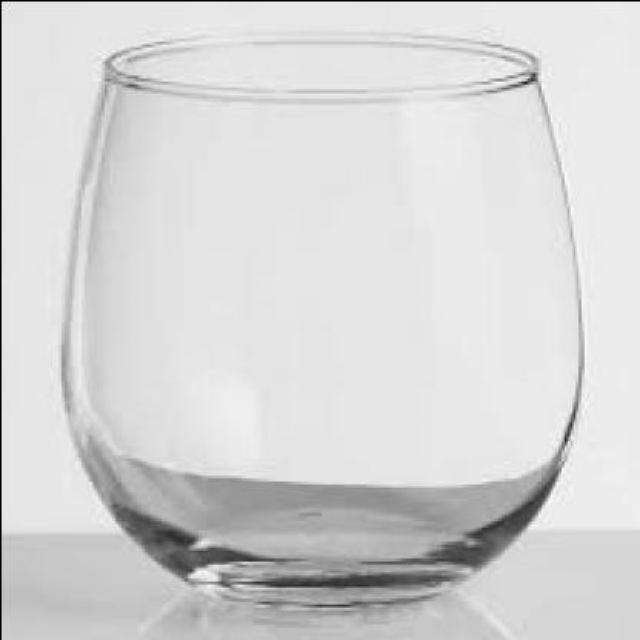glass: (54, 31, 580, 603)
